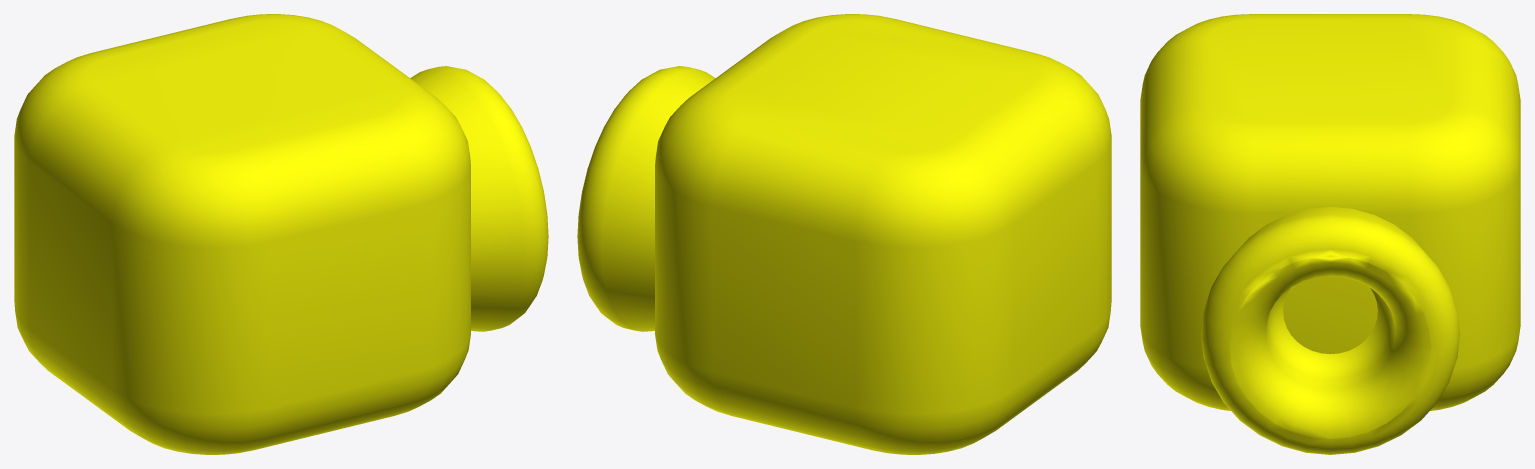
The model's file is Shooter_v3_.glb.
3 views of the same model, side by side, from view 1: azimuth 30°, elevation 25°; view 2: azimuth 150°, elevation 25°; view 3: azimuth 270°, elevation 25° (orthographic). The views are drawn at different scales.
Parts seen in each view (by area): view 1: Shooter1_, ShooterMuzzle1_; view 2: Shooter1_, ShooterMuzzle1_; view 3: Shooter1_, ShooterMuzzle1_.
Boxes of the visible parts, left/top/right/bottom form: Shooter1_: left=14, top=14, right=470, bottom=454; ShooterMuzzle1_: left=410, top=66, right=548, bottom=331; Shooter1_: left=655, top=14, right=1111, bottom=454; ShooterMuzzle1_: left=577, top=66, right=715, bottom=331; Shooter1_: left=1140, top=14, right=1520, bottom=410; ShooterMuzzle1_: left=1201, top=207, right=1459, bottom=454.
Size of the model in its own units: 1.84 by 1.23 by 1.5.
1 material, 1 textured.
